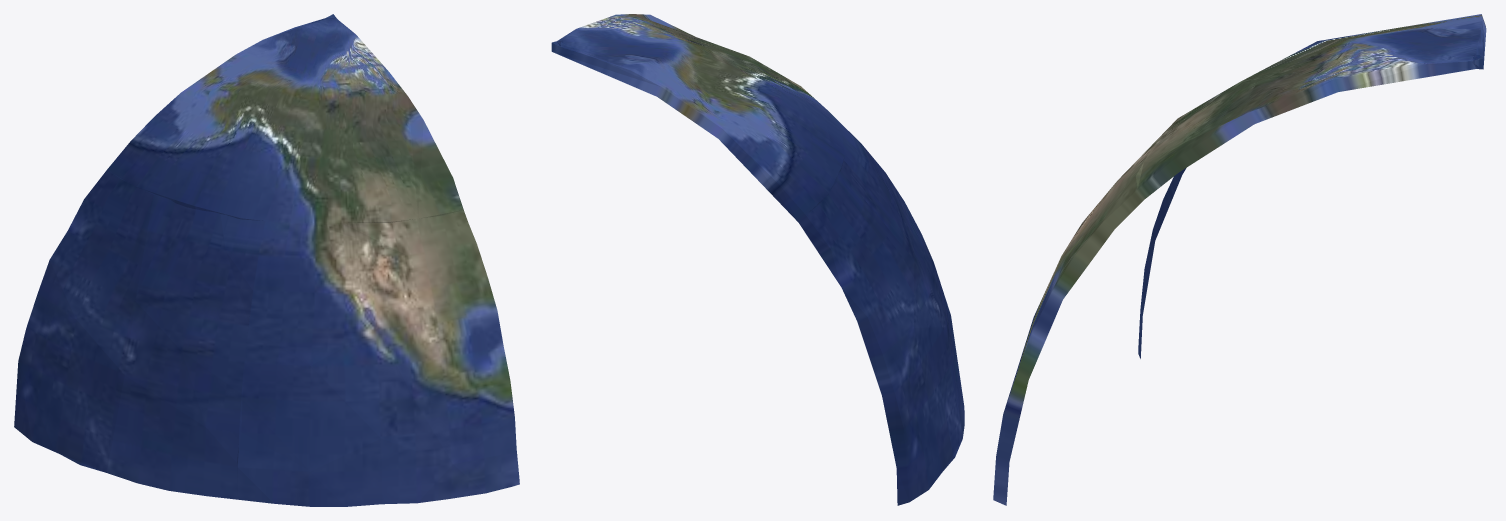
3 views of the same model, side by side, from view 1: azimuth 30°, elevation 25°; view 2: azimuth 150°, elevation 25°; view 3: azimuth 270°, elevation 25° (orthographic). The views are drawn at different scales.
Size of the model in its own units: 6489196 by 6485040 by 6527860.
1 material, 1 textured.
